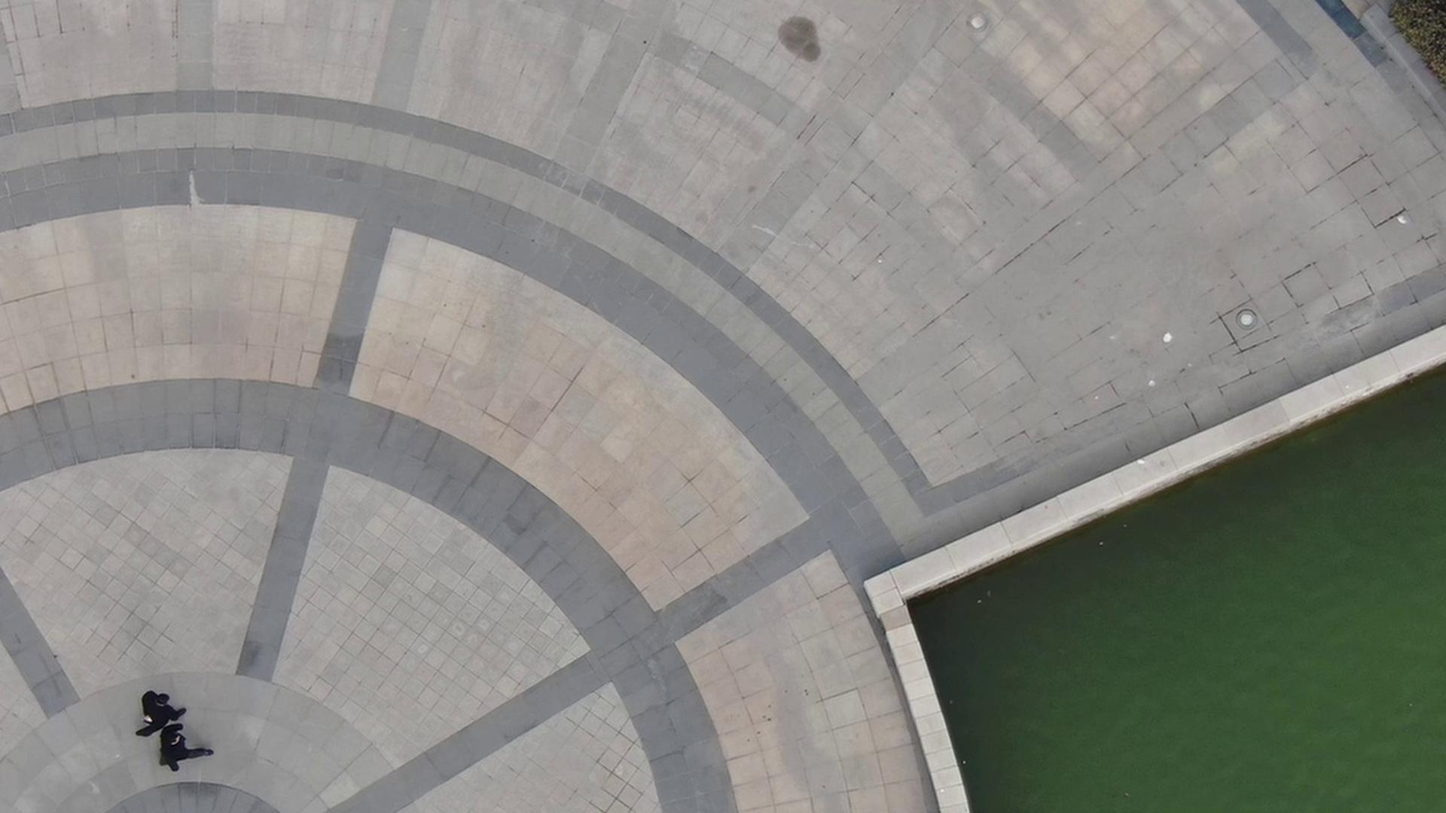human: (152, 684, 208, 731), (166, 731, 211, 778)
